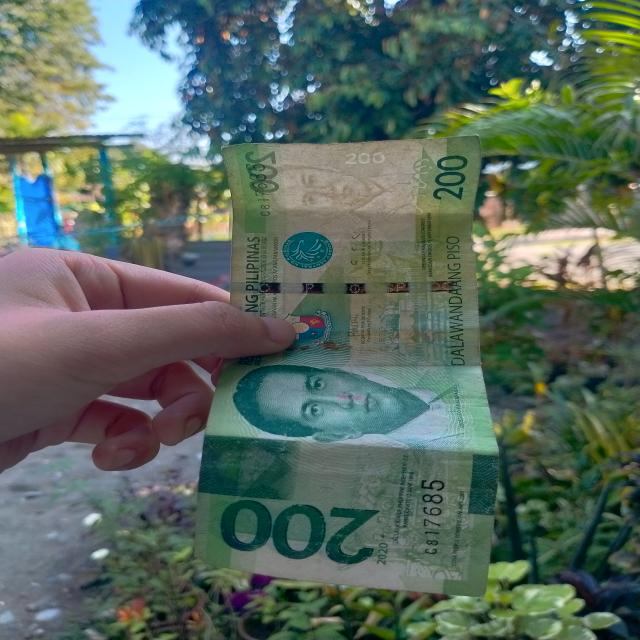concealed_value: (190, 432, 305, 502)
security_thread: (237, 278, 475, 296)
see_through_mark: (405, 154, 434, 223)
serial_number: (415, 466, 449, 561)
value: (216, 499, 390, 568)
value_watermark: (338, 151, 392, 167)
watermark: (263, 157, 412, 225)
